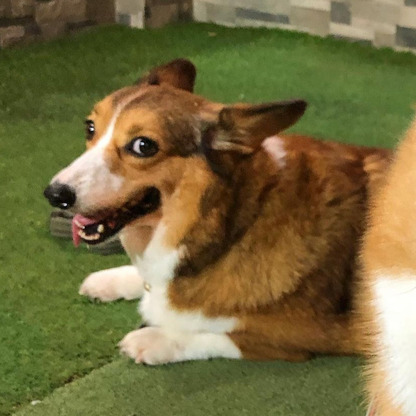Corgi: (27, 58, 355, 367)
